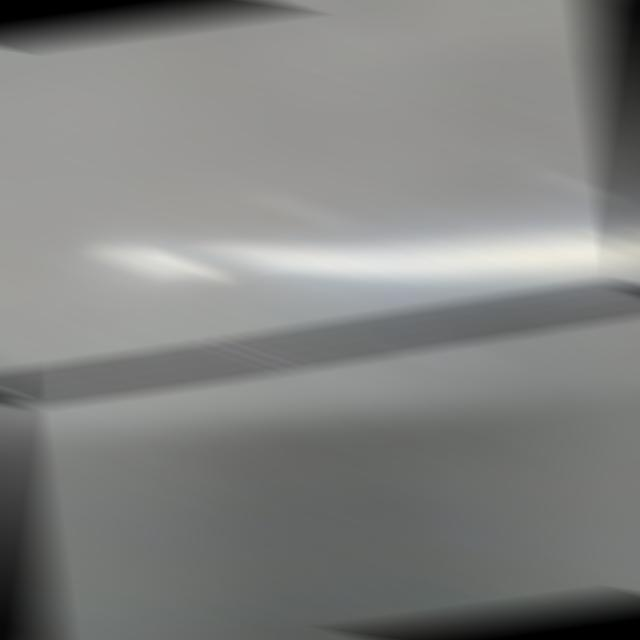pink: (223, 342, 286, 368)
